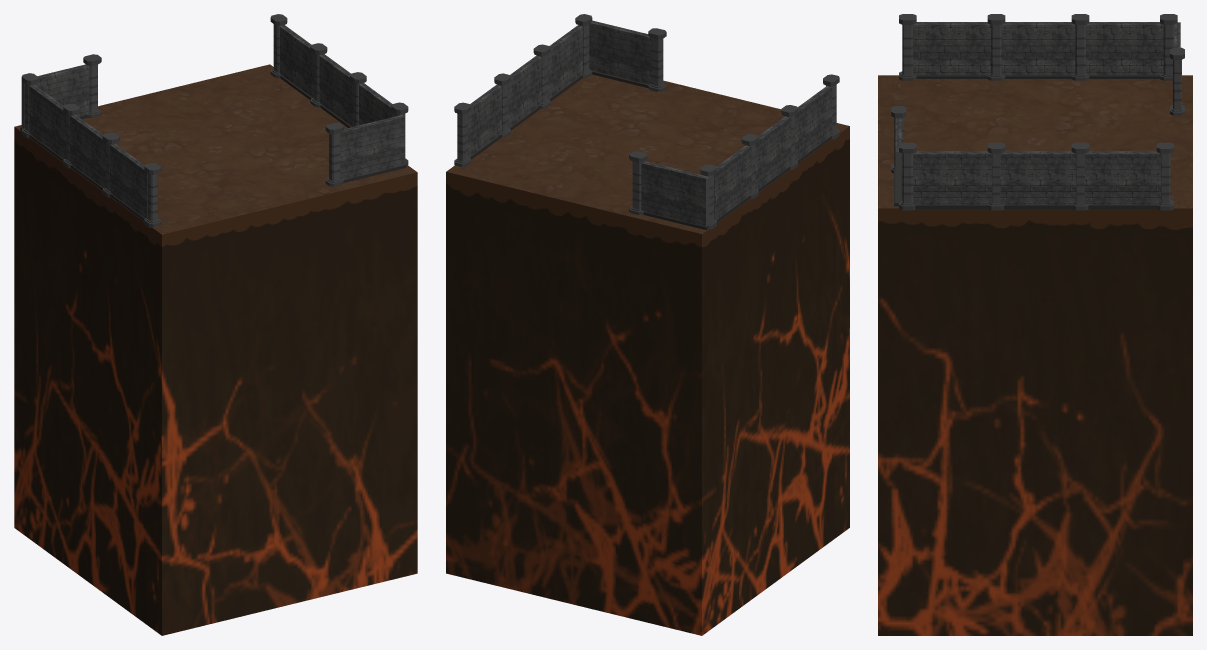
File: Plataforma 1 ZigZag.fbx
The picture shows the model from 3 angles, left to right: view 1: azimuth 30°, elevation 25°; view 2: azimuth 150°, elevation 25°; view 3: azimuth 270°, elevation 25°; orthographic projection. The views are drawn at different scales.
Visible parts, largest first — view 1: Plataforma 1.005, Muro.015, Muro.014, Muro.012, Muro.013, Muro.016, Muro.011, Muro.010, Muro.009, Pilar.017, Pilar.015, Pilar.018 (+2 smaller); view 2: Plataforma 1.005, Muro.016, Muro.015, Muro.014, Muro.012, Muro.013, Muro.009, Muro.011, Muro.010, Pilar.017, Pilar.012, Pilar.018 (+2 smaller); view 3: Plataforma 1.005, Muro.009, Muro.011, Muro.014, Muro.010, Muro.012, Muro.013, Pilar.014, Pilar.010, Pilar.011, Pilar.015, Pilar.012 (+5 smaller).
Boxes of the visible parts, box(x1,y1,x2,y2) form: Plataforma 1.005: box(14, 64, 417, 635); Muro.015: box(340, 115, 406, 182); Muro.014: box(109, 144, 147, 220); Muro.012: box(29, 84, 66, 161); Muro.013: box(70, 115, 105, 190); Muro.016: box(20, 64, 89, 130); Muro.011: box(279, 25, 313, 99); Muro.010: box(319, 54, 352, 127); Muro.009: box(359, 83, 394, 125); Pilar.017: box(325, 122, 343, 186); Pilar.015: box(144, 163, 161, 227); Pilar.018: box(83, 54, 101, 118); Plataforma 1.005: box(446, 71, 849, 635); Muro.016: box(641, 161, 709, 230); Muro.015: box(589, 20, 651, 87); Muro.014: box(795, 86, 832, 163); Muro.012: box(714, 145, 751, 222); Muro.013: box(755, 116, 791, 191); Muro.009: box(547, 25, 582, 101); Muro.011: box(468, 84, 501, 159); Muro.010: box(508, 55, 541, 130); Pilar.017: box(648, 28, 666, 91); Pilar.012: box(454, 102, 471, 166); Pilar.018: box(629, 151, 647, 215); Plataforma 1.005: box(878, 75, 1192, 635); Muro.009: box(913, 151, 992, 208); Muro.011: box(1084, 151, 1161, 208); Muro.014: box(913, 22, 990, 78); Muro.010: box(1000, 151, 1076, 208); Muro.012: box(1086, 22, 1163, 78); Muro.013: box(1001, 22, 1075, 78); Pilar.014: box(899, 142, 916, 210); Pilar.010: box(1071, 14, 1089, 80); Pilar.011: box(987, 14, 1005, 80); Pilar.015: box(899, 14, 916, 80); Pilar.012: box(1156, 142, 1174, 210).
Bounding box in the file's own units: 1014 × 1712 × 1000.
